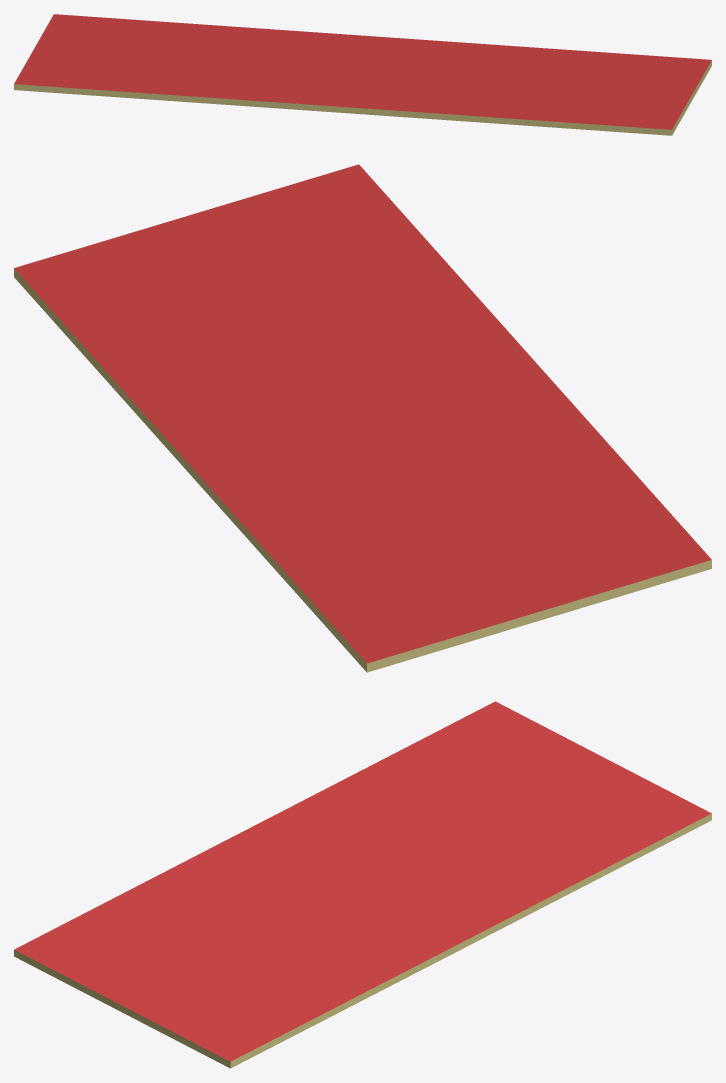
3 renders of one model, top to bottom at view 1: azimuth 30°, elevation 25°; view 2: azimuth 150°, elevation 25°; view 3: azimuth 270°, elevation 25°, orthographic. The views are drawn at different scales.
Size of the model in its own units: 10.11 by 9.22 by 0.641.
